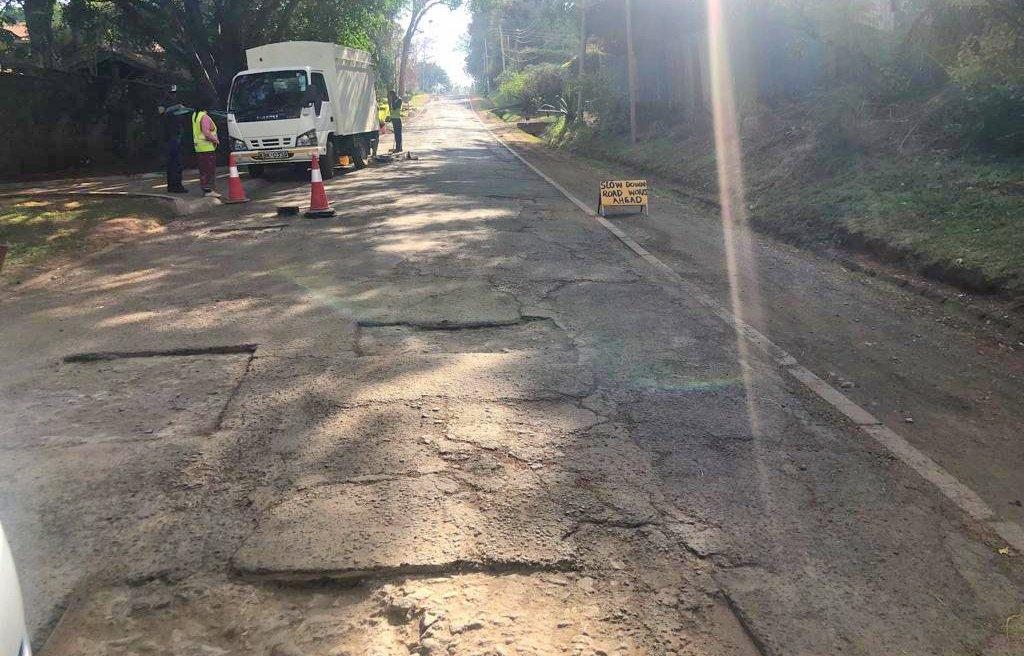car: (225, 42, 393, 173)
indicator: (588, 177, 660, 218)
person: (185, 94, 225, 203), (155, 94, 191, 198)
roadcone: (295, 152, 341, 223), (220, 156, 254, 204)
